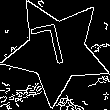L_S: (36, 23, 77, 79)
